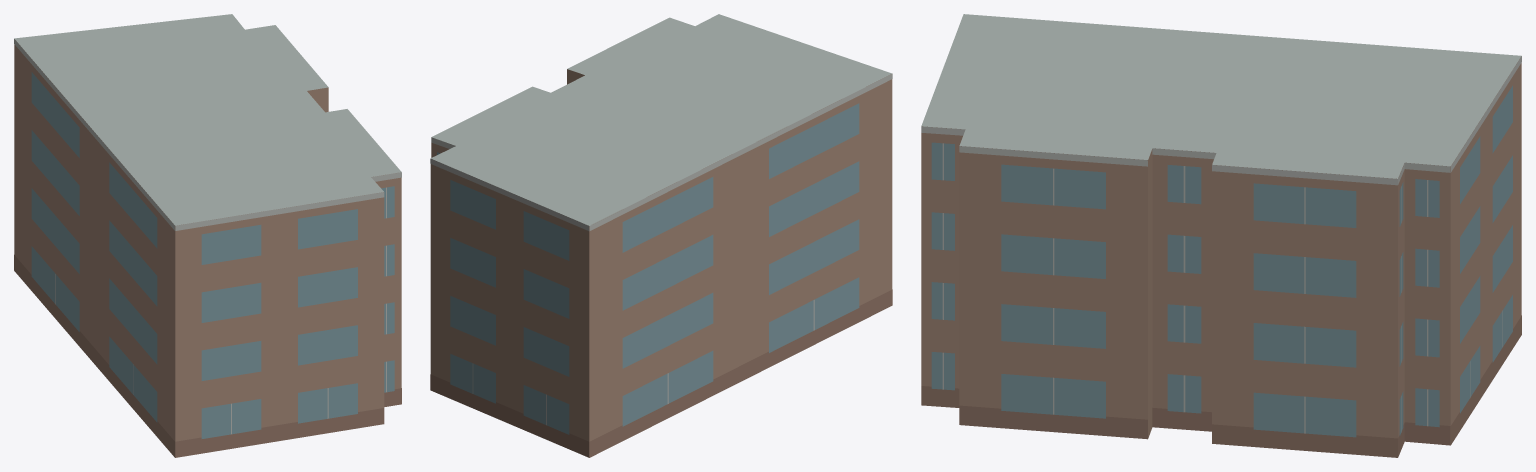
Rendered from survey-upis-32673456.glb.
The picture shows the model from 3 angles, left to right: view 1: azimuth 30°, elevation 25°; view 2: azimuth 150°, elevation 25°; view 3: azimuth 270°, elevation 25°; orthographic projection. The views are drawn at different scales.
Visible parts, largest first — view 1: survey-upis-32673456.tmp; view 2: survey-upis-32673456.tmp; view 3: survey-upis-32673456.tmp.
Part boxes in pixels (bbox=[...]): survey-upis-32673456.tmp: bbox=[14, 14, 401, 457]; survey-upis-32673456.tmp: bbox=[430, 14, 892, 457]; survey-upis-32673456.tmp: bbox=[921, 14, 1521, 457].
Size of the model in its own units: 13.31 by 10.5 by 20.49.
